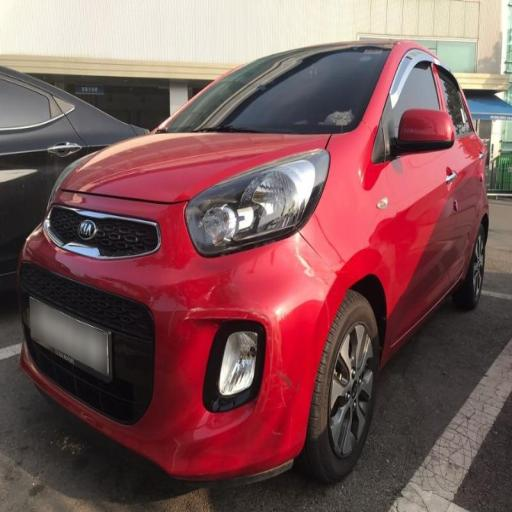scratch: (198, 191, 364, 322)
